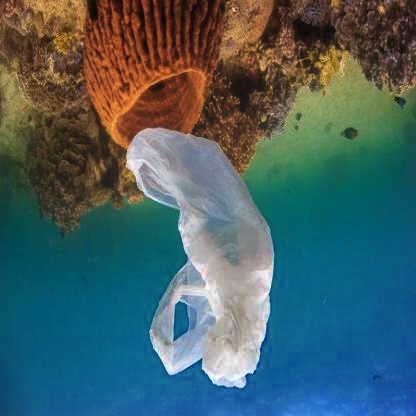pbag: (125, 126, 275, 388)
